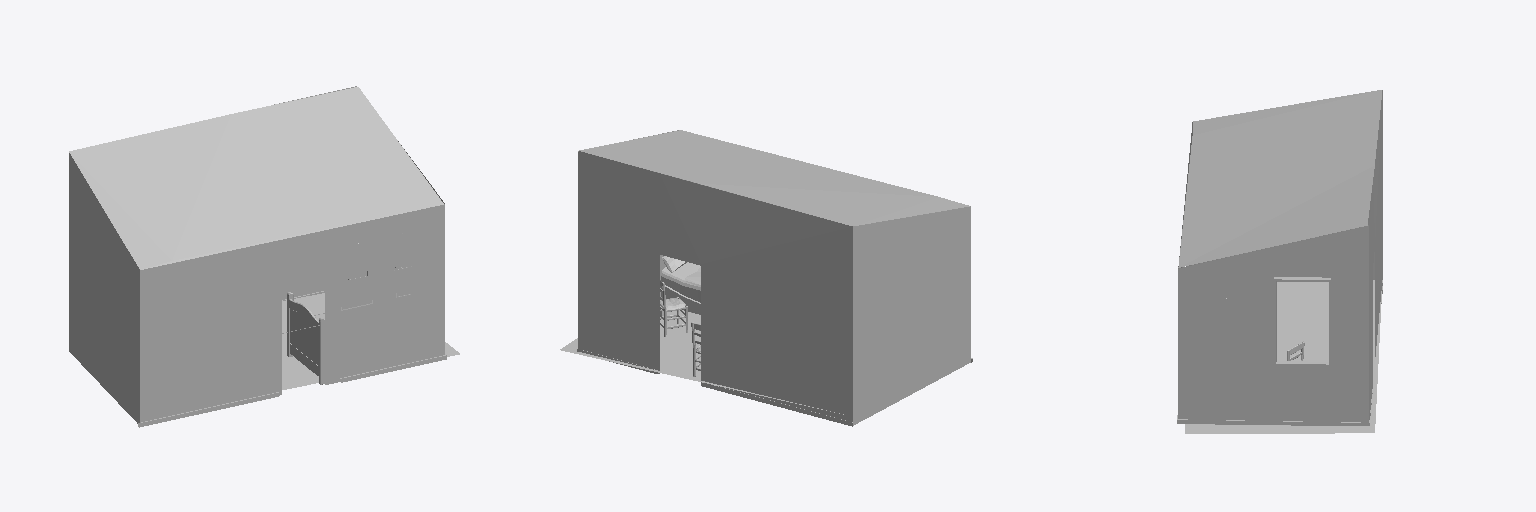
Rendered from cuarto.obj.
3 views of the same model, side by side, from view 1: azimuth 30°, elevation 25°; view 2: azimuth 150°, elevation 25°; view 3: azimuth 270°, elevation 25° (orthographic).
Visible parts, largest first — view 1: walls, bad, FLOOR, rest; view 2: walls, FLOOR, bad_for, chair, rest; view 3: walls, FLOOR, rest.
Part boxes in pixels (x1,y1,x2,y2): walls: (69, 86, 444, 423); bad: (287, 292, 324, 384); FLOOR: (282, 293, 459, 389); rest: (138, 291, 446, 427); walls: (578, 130, 970, 425); FLOOR: (560, 310, 843, 414); bad_for: (661, 256, 700, 302); chair: (660, 280, 700, 376); rest: (577, 348, 972, 426); walls: (1178, 90, 1382, 422); FLOOR: (1185, 280, 1382, 433); rest: (1177, 286, 1382, 425).
Bounding box in the file's own units: 12.87 × 7.77 × 7.13.